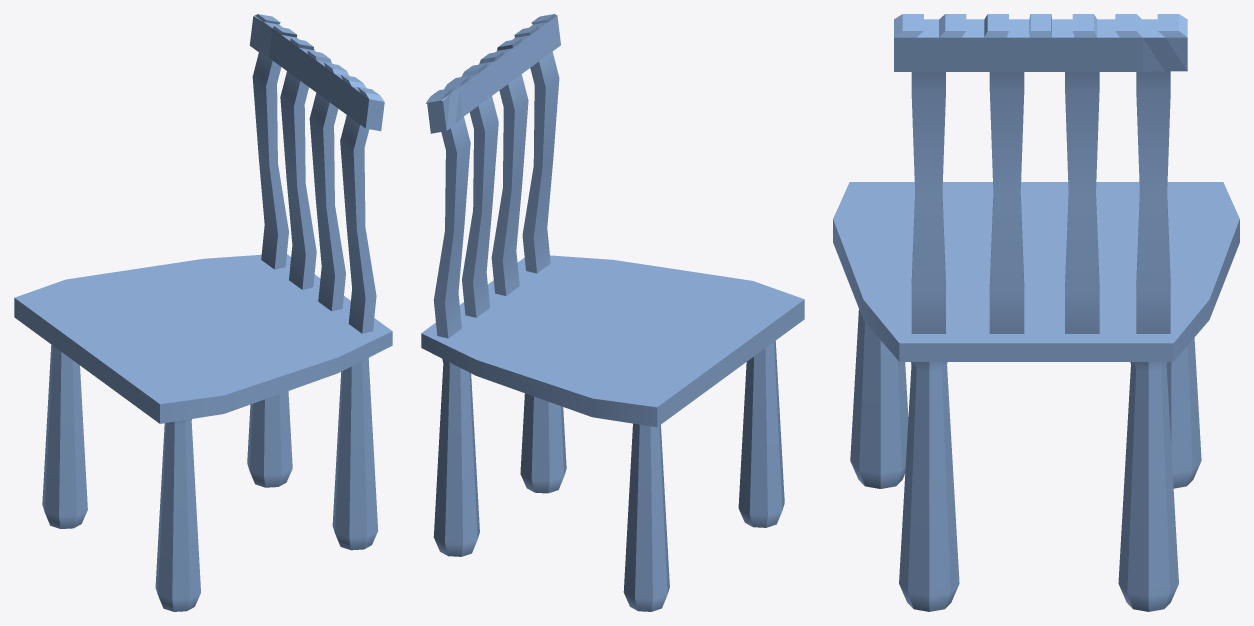
The model's file is chair.fbx.
The picture shows the model from 3 angles, left to right: view 1: azimuth 30°, elevation 25°; view 2: azimuth 150°, elevation 25°; view 3: azimuth 270°, elevation 25°; orthographic projection. The views are drawn at different scales.
Parts seen in each view (by area): view 1: pCube4, pCylinder2, pCylinder4, pCylinder3, pCube9, pCube8, pCube7, pCube6, pCube5, pCylinder5; view 2: pCube4, pCylinder5, pCylinder3, pCylinder2, pCube9, pCube8, pCube7, pCube6, pCube5, pCylinder4; view 3: pCube4, pCube9, pCylinder4, pCylinder5, pCube7, pCube5, pCube6, pCube8, pCylinder2, pCylinder3.
Part boxes in pixels (bbox=[...]): pCube4: bbox=[14, 254, 392, 423]; pCylinder2: bbox=[155, 419, 200, 611]; pCylinder4: bbox=[332, 358, 378, 550]; pCylinder3: bbox=[42, 344, 87, 528]; pCube9: bbox=[249, 14, 384, 131]; pCube8: bbox=[340, 115, 376, 333]; pCube7: bbox=[309, 93, 345, 311]; pCube6: bbox=[280, 71, 316, 289]; pCube5: bbox=[252, 52, 288, 269]; pCylinder5: bbox=[247, 391, 292, 487]; pCube4: bbox=[421, 255, 804, 427]; pCylinder5: bbox=[433, 359, 479, 556]; pCylinder3: bbox=[623, 423, 669, 611]; pCylinder2: bbox=[738, 341, 784, 527]; pCube9: bbox=[426, 14, 560, 133]; pCube8: bbox=[522, 52, 559, 273]; pCube7: bbox=[491, 74, 528, 295]; pCube6: bbox=[462, 96, 498, 317]; pCube5: bbox=[433, 116, 470, 338]; pCylinder4: bbox=[520, 393, 566, 493]; pCube4: bbox=[833, 182, 1239, 361]; pCube9: bbox=[894, 14, 1187, 71]; pCylinder4: bbox=[899, 362, 959, 611]; pCylinder5: bbox=[1118, 362, 1178, 611]; pCube7: bbox=[989, 72, 1024, 333]; pCube5: bbox=[1136, 71, 1170, 333]; pCube6: bbox=[1065, 72, 1099, 333]; pCube8: bbox=[911, 72, 945, 333]; pCylinder2: bbox=[850, 309, 908, 488]; pCylinder3: bbox=[1166, 338, 1201, 488].
Bounding box in the file's own units: 3.86 × 6.7 × 4.2.
